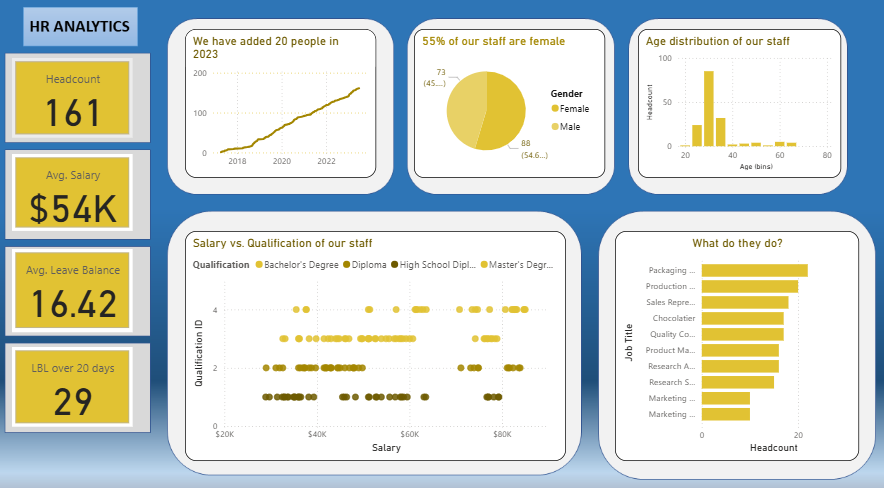

The dashboard page shown, as its layout file describes it:
{"tool":"powerbi","page":{"name":"HR Dashboard","canvas":[1280,720],"ordinal":9},"visuals":[{"type":"cardVisual","fields":{"Data":["staff.Headcount"]},"box":[34,100.6,171.5,113.4],"z":0},{"type":"cardVisual","fields":{"Data":["staff.Avg. Salary"]},"box":[34,236.7,171.5,109.1],"z":1000},{"type":"cardVisual","fields":{"Data":["staff.Avg. Leave Balance"]},"box":[34,371.3,171.5,117.6],"z":2000},{"type":"cardVisual","fields":{"Data":["staff.LBL over 20 days"]},"box":[34,510.2,171.5,113.4],"z":3000},{"type":"clusteredBarChart","title":"What do they do?","fields":{"Category":["staff.Job Title"],"Y":["staff.Headcount"]},"box":[888.7,345.8,345.8,326],"z":4000},{"type":"pieChart","title":"55% of our staff are female","fields":{"Category":["staff.Gender"],"Y":["staff.Headcount"]},"box":[603.8,59.5,270.7,211.2],"z":5000},{"type":"clusteredColumnChart","title":"Age distribution of our staff","fields":{"Y":["staff.Headcount"],"Category":["staff.Age (bins)"]},"box":[921.3,59.5,287.7,211.2],"z":6000},{"type":"scatterChart","title":"Salary vs. Qualification of our staff","fields":{"X":["staff.Salary"],"Y":["qual.Qualification ID"],"Series":["qual.Qualification"]},"box":[279.2,345.8,540,326],"z":7000},{"type":"lineChart","title":"We have added 20 people in 2023","fields":{"Y":["staff.Cumulative Headcount"],"Category":["staff.Date of Join"]},"box":[279.2,59.5,270.7,211.2],"z":8000}]}

Visuals, with their boxes in screenshot pixels (x1, y1, x2, y2), scaled from the page's 1280x720 canvas onto the 884x488 screenshot:
cardVisual - staff.Headcount: crop(23, 68, 142, 145)
cardVisual - staff.Avg. Salary: crop(23, 160, 142, 234)
cardVisual - staff.Avg. Leave Balance: crop(23, 252, 142, 331)
cardVisual - staff.LBL over 20 days: crop(23, 346, 142, 423)
"What do they do?" clusteredBarChart: crop(614, 234, 853, 455)
"55% of our staff are female" pieChart: crop(417, 40, 604, 183)
"Age distribution of our staff" clusteredColumnChart: crop(636, 40, 835, 183)
"Salary vs. Qualification of our staff" scatterChart: crop(193, 234, 566, 455)
"We have added 20 people in 2023" lineChart: crop(193, 40, 380, 183)
